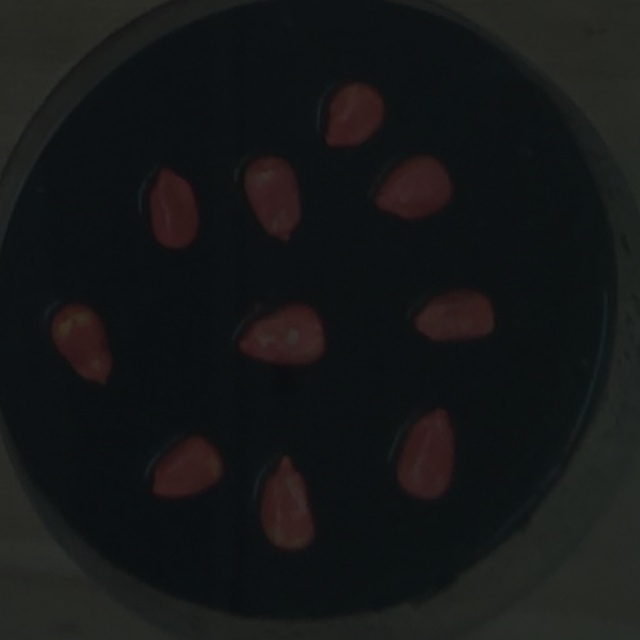Zea mays: (232, 293, 331, 372), (362, 147, 459, 227), (253, 448, 323, 557), (390, 401, 461, 506), (44, 296, 118, 395), (237, 148, 309, 249), (145, 430, 232, 508), (405, 282, 502, 350), (140, 157, 205, 257), (317, 73, 392, 154)
